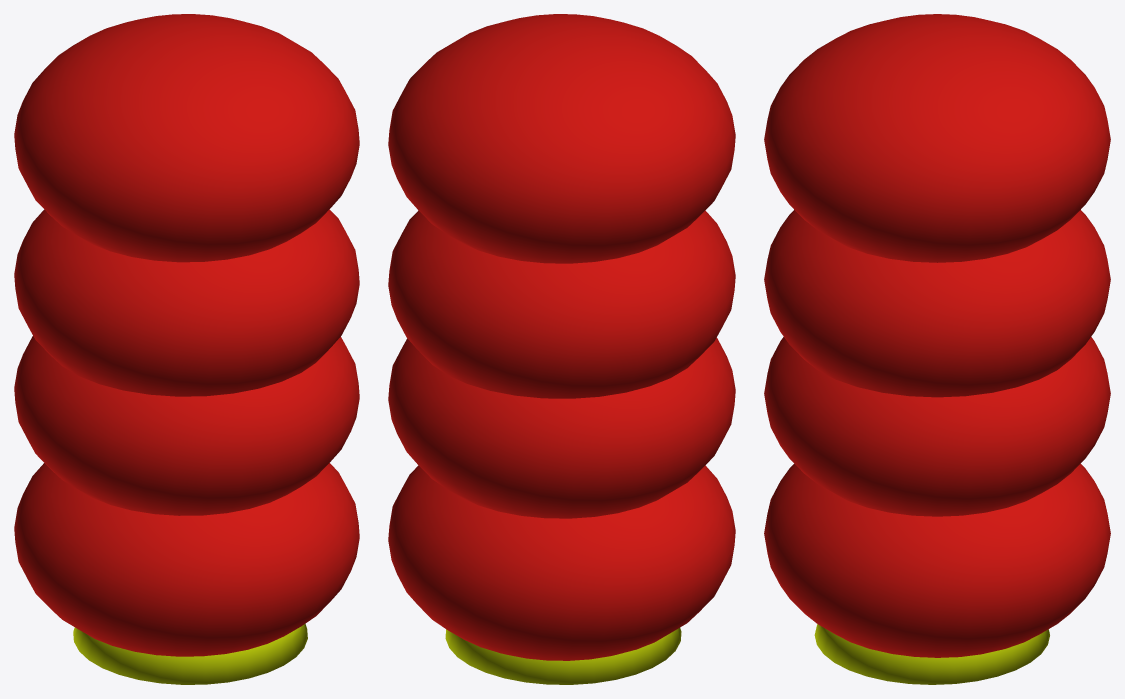
The model's file is bong.obj.
The picture shows the model from 3 angles, left to right: view 1: azimuth 30°, elevation 25°; view 2: azimuth 150°, elevation 25°; view 3: azimuth 270°, elevation 25°; orthographic projection.
Parts seen in each view (by area): view 1: Circle.068; view 2: Circle.068; view 3: Circle.068.
Part boxes in pixels (box(x1,y1,x2,y2)): Circle.068: box(14, 14, 359, 684); Circle.068: box(388, 14, 735, 684); Circle.068: box(764, 14, 1110, 684).
Bounding box in the file's own units: 2 × 3.81 × 2.
